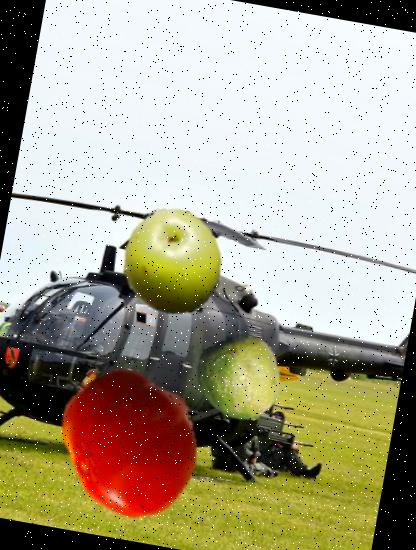Apple: (109, 200, 234, 325)
Limes: (187, 327, 290, 430)
Tomato: (46, 356, 219, 530)
